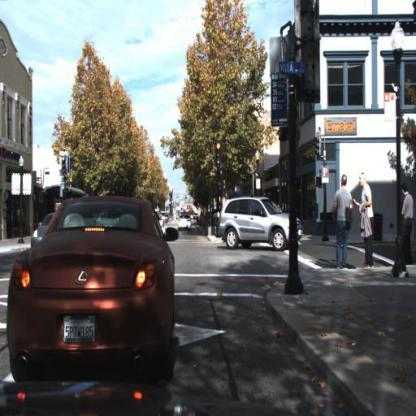car: (3, 193, 183, 389), (218, 196, 305, 249), (30, 211, 58, 257), (178, 212, 192, 232)
pedestrian: (355, 172, 379, 271), (396, 179, 416, 270), (335, 173, 354, 265), (51, 168, 57, 181)
trafficLight-Red: (215, 141, 223, 170), (61, 156, 69, 179)
